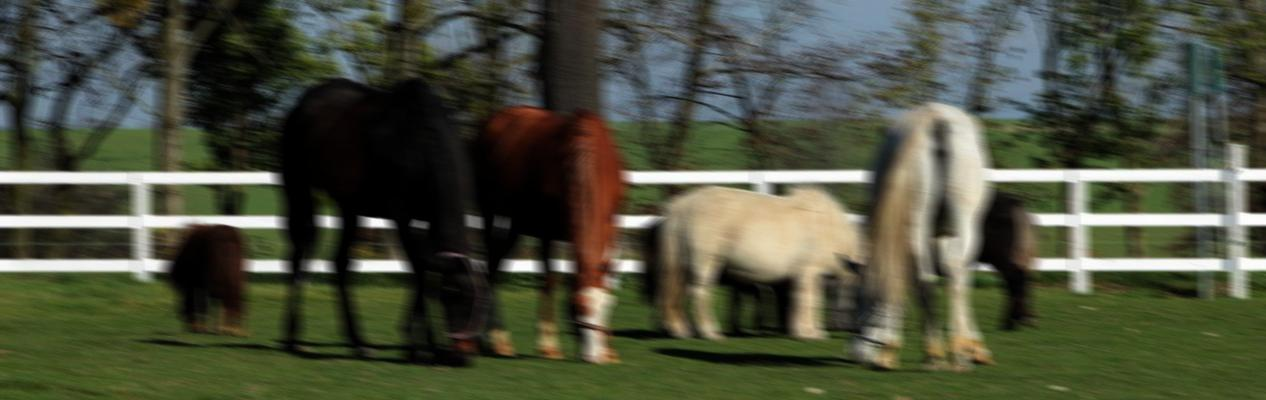horse: (271, 74, 487, 366), (461, 104, 629, 364), (841, 100, 994, 372), (635, 182, 869, 340), (160, 219, 250, 337)
